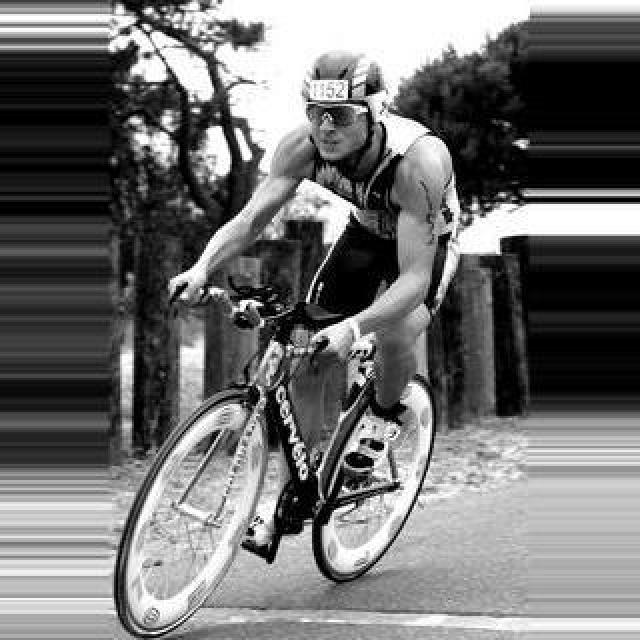MC-Bike: (162, 40, 464, 592)
Person: (111, 252, 443, 628)
